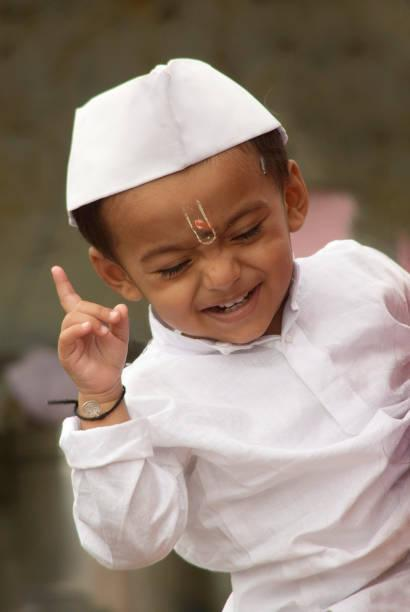Human: (34, 29, 410, 600)
